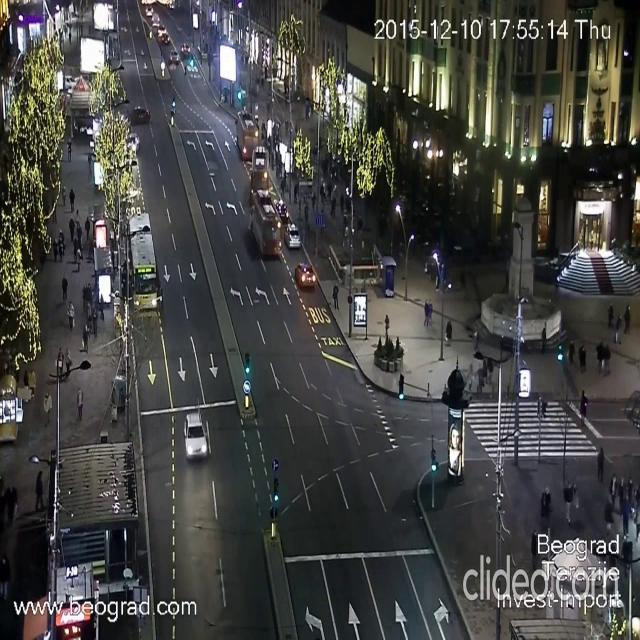bus: (249, 188, 281, 258), (235, 100, 257, 148), (252, 142, 270, 187)
car: (183, 410, 207, 460), (294, 262, 316, 289), (283, 220, 301, 242), (169, 52, 179, 66), (280, 198, 286, 220), (161, 32, 169, 46), (179, 46, 191, 55), (152, 13, 158, 27)
